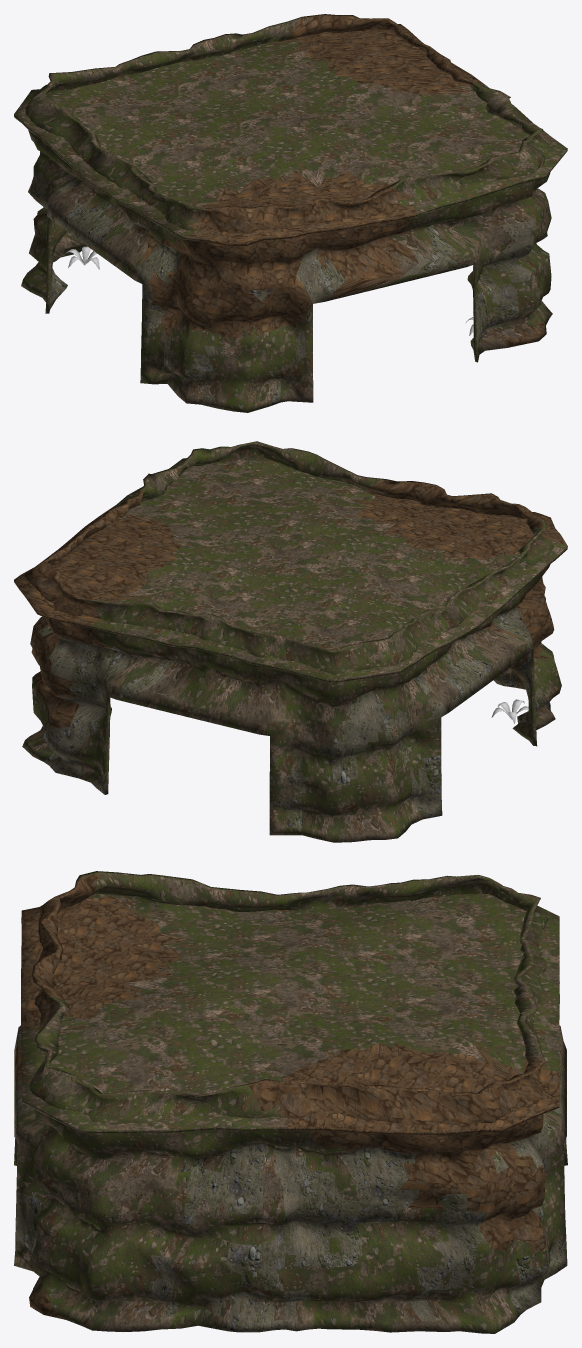
Rendered from cavern_2_organic.obj.
The picture shows the model from 3 angles, top to bottom: view 1: azimuth 30°, elevation 25°; view 2: azimuth 150°, elevation 25°; view 3: azimuth 270°, elevation 25°; orthographic projection. The views are drawn at different scales.
Visible parts, largest first — view 1: cavern_2_Rock_skin; view 2: cavern_2_Rock_skin; view 3: cavern_2_Rock_skin.
Boxes of the visible parts, x1,y1,x2,y2 form: cavern_2_Rock_skin: (14,14,567,412); cavern_2_Rock_skin: (14,441,567,842); cavern_2_Rock_skin: (14,871,567,1333).
Size of the model in its own units: 938 by 441 by 919.
